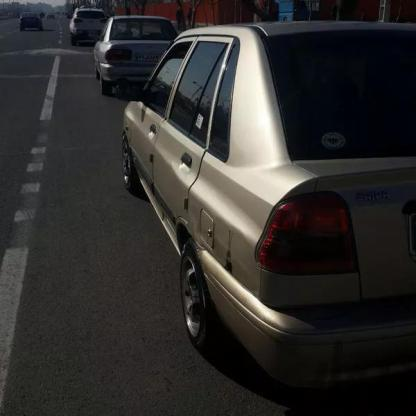Car: (109, 22, 416, 416), (92, 14, 186, 91), (62, 2, 108, 48), (18, 14, 44, 28)
